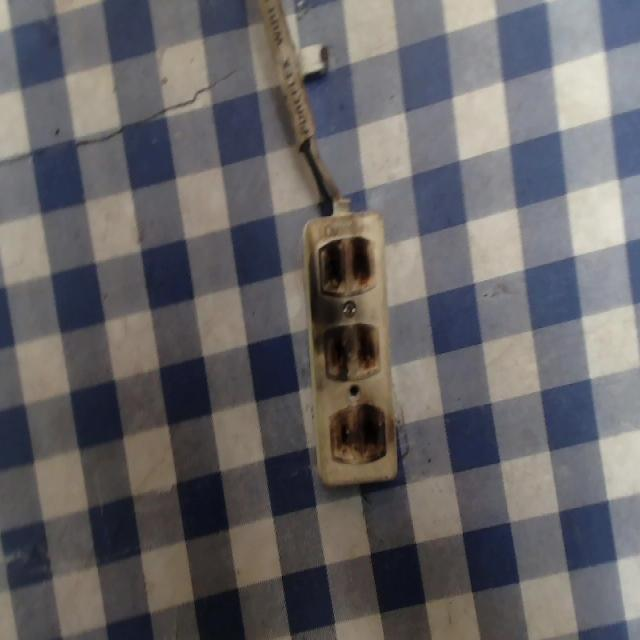-: (324, 397, 389, 463), (314, 234, 376, 298), (320, 320, 382, 380)
